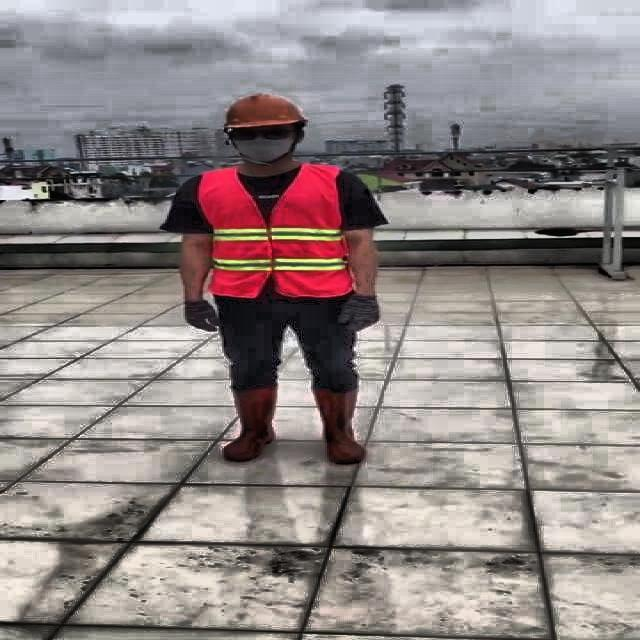safety_helmet: (222, 94, 311, 134)
safety_jacket: (199, 162, 354, 300)
